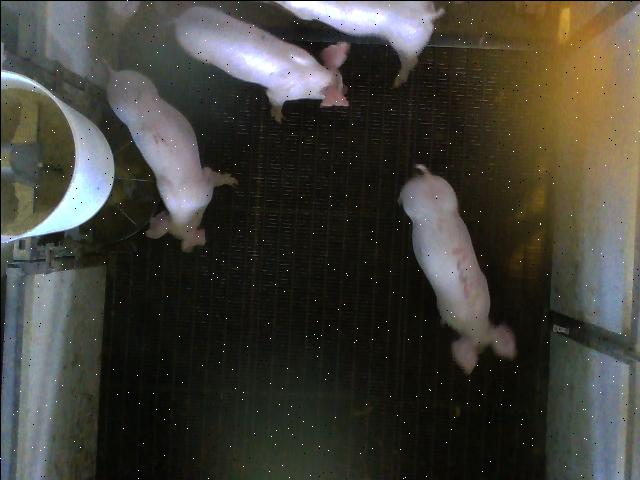pig-3: (398, 164, 516, 374)
